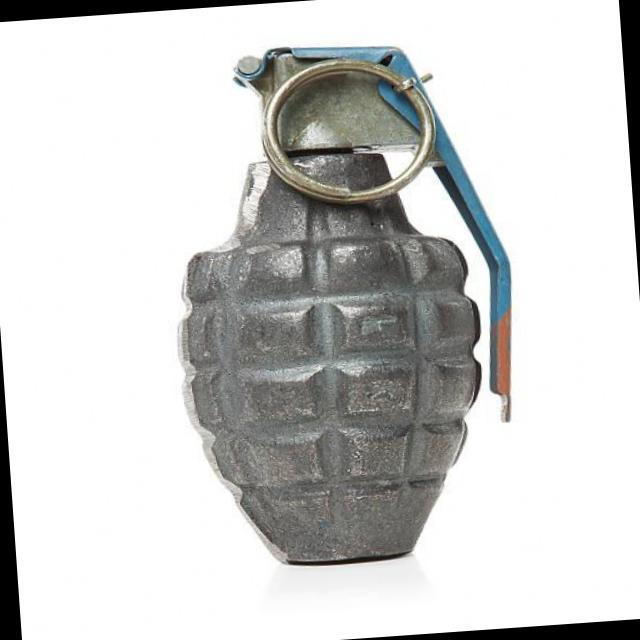grenade: (140, 23, 544, 580)
